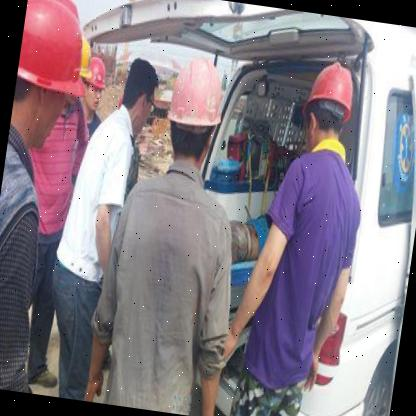capacete: (13, 0, 100, 112), (162, 49, 234, 141), (296, 51, 362, 134), (78, 54, 110, 100)
